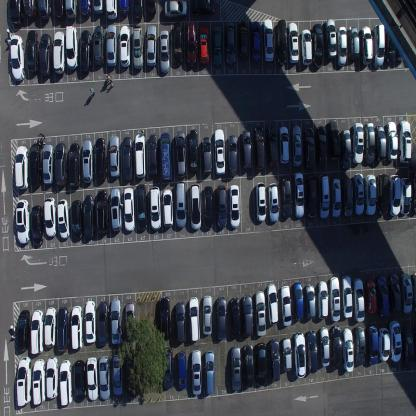car: (16, 356, 31, 408), (9, 33, 25, 80), (32, 358, 46, 406), (59, 359, 73, 407), (160, 131, 172, 183), (174, 131, 187, 179), (96, 189, 110, 233), (14, 146, 28, 190), (16, 200, 30, 244), (398, 119, 412, 163), (376, 275, 390, 319), (253, 124, 266, 171), (293, 332, 306, 379), (30, 204, 44, 247), (56, 306, 69, 352), (388, 273, 402, 315), (388, 320, 402, 362), (123, 187, 136, 232), (26, 29, 39, 74), (28, 142, 41, 187), (121, 135, 134, 180), (86, 356, 99, 401), (98, 355, 111, 400), (46, 355, 59, 400), (174, 180, 186, 228), (190, 182, 202, 230), (230, 344, 242, 392), (149, 186, 162, 230), (110, 188, 123, 232), (161, 346, 174, 390), (84, 299, 97, 343), (83, 194, 96, 238), (39, 34, 52, 78), (53, 30, 66, 74), (65, 24, 78, 68), (352, 278, 365, 322), (266, 282, 279, 326), (30, 310, 43, 354), (17, 308, 30, 352), (136, 183, 148, 230), (292, 172, 304, 219), (111, 353, 124, 396), (364, 173, 377, 216), (216, 184, 228, 230), (185, 22, 197, 68), (110, 298, 122, 344), (97, 300, 109, 346), (159, 296, 171, 342), (188, 296, 200, 342), (190, 350, 202, 396), (342, 326, 354, 372), (70, 304, 82, 350), (70, 198, 83, 240), (44, 196, 57, 238), (366, 324, 379, 366), (95, 136, 107, 181), (312, 23, 324, 68), (55, 141, 67, 186), (134, 133, 146, 178), (341, 274, 353, 319), (214, 127, 225, 176), (360, 24, 373, 65), (57, 198, 70, 239), (202, 186, 214, 230), (82, 138, 94, 182), (80, 30, 92, 74), (211, 24, 223, 68), (276, 19, 287, 67), (266, 124, 278, 168), (318, 172, 329, 220), (330, 326, 342, 370), (242, 294, 254, 338), (229, 296, 241, 340), (268, 338, 280, 382), (255, 342, 267, 386), (255, 290, 266, 337), (119, 24, 131, 67), (328, 119, 340, 162), (363, 121, 375, 164), (280, 284, 292, 327), (126, 356, 138, 399), (229, 184, 240, 230), (173, 20, 184, 66), (304, 126, 315, 172), (204, 349, 215, 395), (287, 22, 299, 64), (324, 17, 336, 59), (42, 143, 54, 185), (280, 177, 292, 219), (351, 121, 363, 163), (377, 173, 389, 215), (318, 325, 330, 367), (44, 306, 56, 348), (159, 29, 170, 74), (373, 23, 384, 68), (69, 142, 80, 187), (306, 330, 317, 375), (243, 343, 254, 388), (93, 25, 105, 66), (340, 128, 352, 169), (400, 273, 412, 314), (227, 134, 238, 178), (175, 301, 186, 345), (133, 25, 144, 69), (106, 24, 117, 68), (225, 22, 236, 66), (263, 18, 274, 62), (109, 134, 120, 178), (216, 296, 227, 340), (329, 276, 340, 320), (198, 26, 210, 66), (267, 182, 279, 222), (278, 124, 290, 164), (402, 330, 414, 370), (354, 326, 366, 366), (292, 281, 304, 321), (74, 360, 86, 400), (163, 0, 188, 19), (146, 24, 157, 67), (291, 124, 302, 167), (306, 175, 317, 218), (386, 121, 398, 160), (241, 129, 252, 171), (396, 20, 407, 62), (342, 176, 353, 218), (188, 128, 198, 174), (238, 19, 249, 60), (177, 350, 188, 391), (304, 282, 316, 319), (191, 0, 217, 17), (162, 188, 173, 228), (336, 26, 347, 66), (354, 172, 364, 216), (390, 172, 400, 216), (317, 280, 328, 320), (348, 25, 360, 61), (378, 326, 390, 362), (148, 134, 158, 177), (331, 176, 341, 219), (201, 136, 212, 175), (400, 176, 411, 215), (251, 20, 261, 62), (386, 23, 396, 65), (317, 124, 327, 166), (202, 294, 212, 336), (256, 181, 266, 222), (125, 300, 135, 341), (301, 29, 312, 66), (9, 0, 24, 26), (365, 280, 376, 314), (281, 338, 292, 372), (375, 124, 385, 161), (37, 0, 51, 19), (410, 170, 416, 214), (23, 0, 36, 19), (106, 0, 118, 20), (118, 0, 131, 18), (65, 0, 77, 19), (79, 0, 91, 18), (133, 0, 143, 20), (54, 0, 64, 20), (412, 272, 416, 314), (146, 0, 157, 14), (93, 0, 103, 15)
